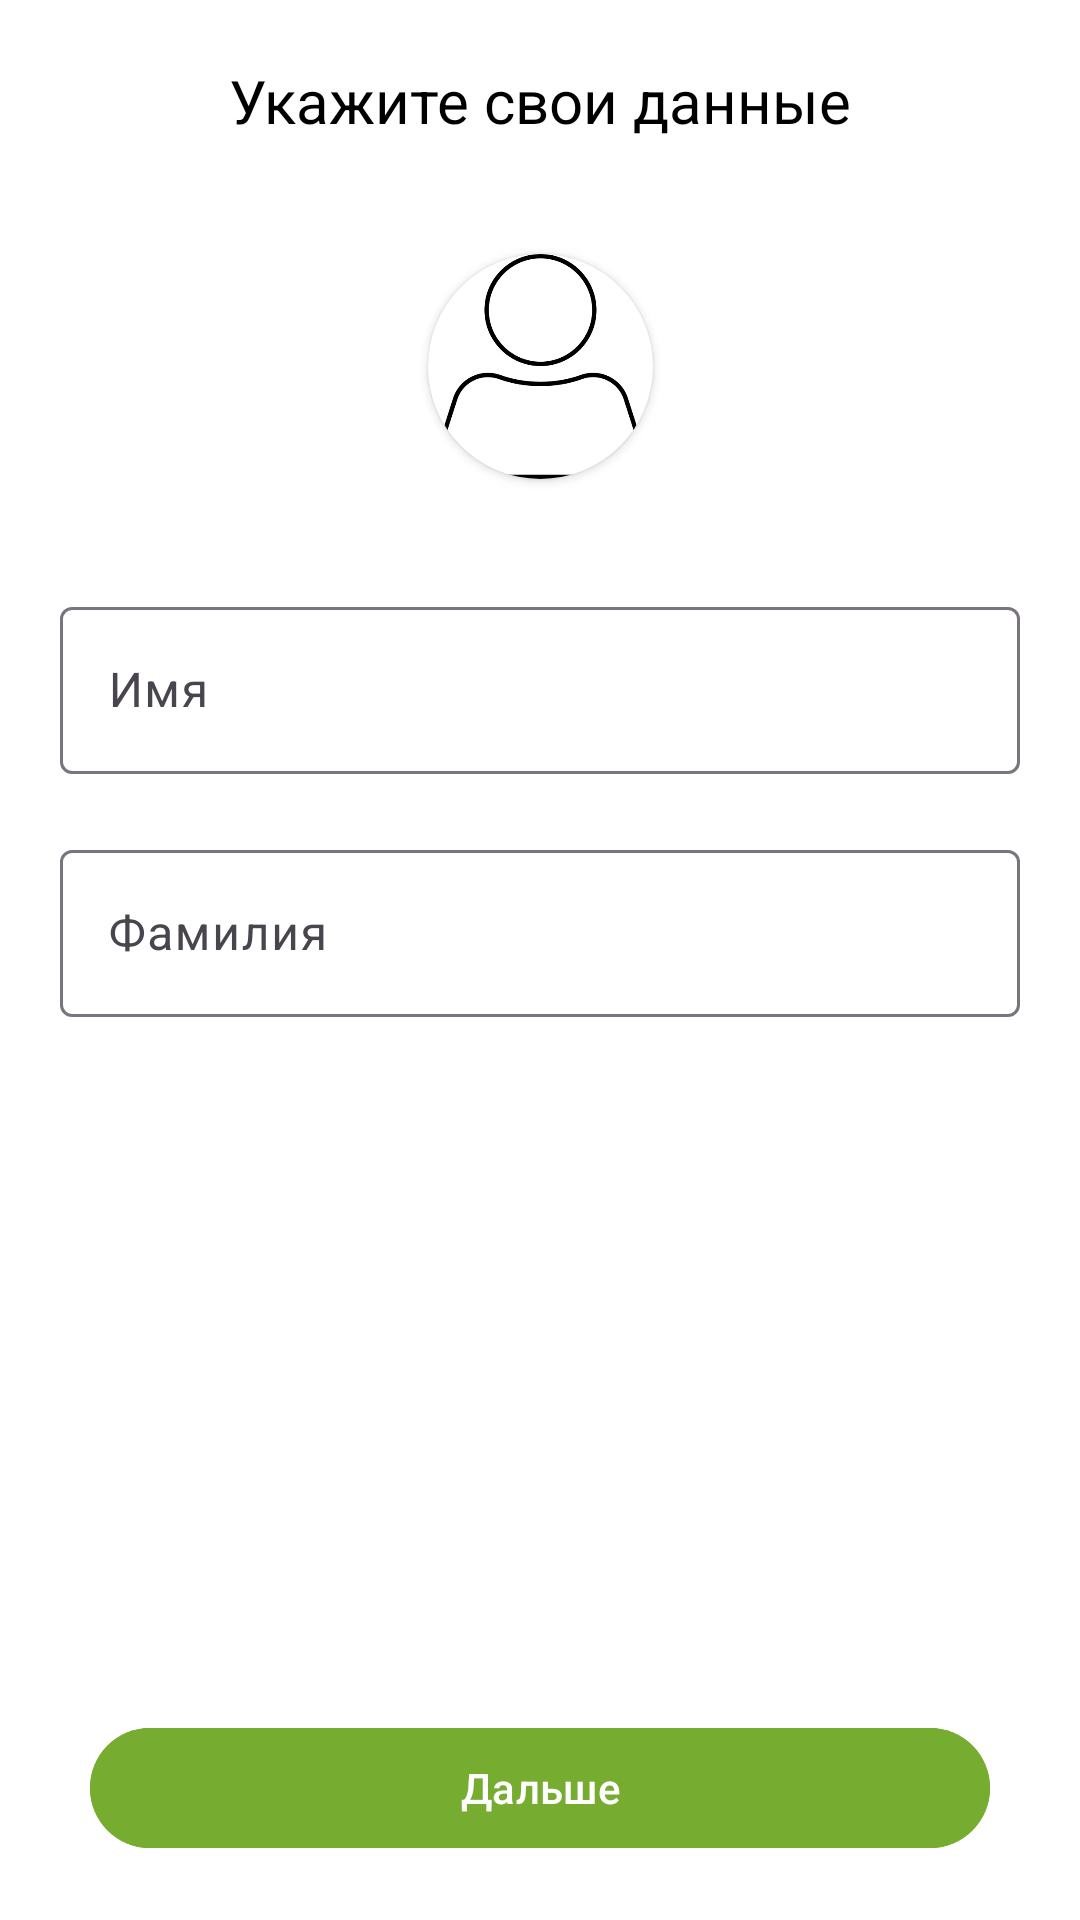

Named icons in this screenshot (1080 × 1920) and their centers, (x=x, y=y):
profile: (x=540, y=366)
